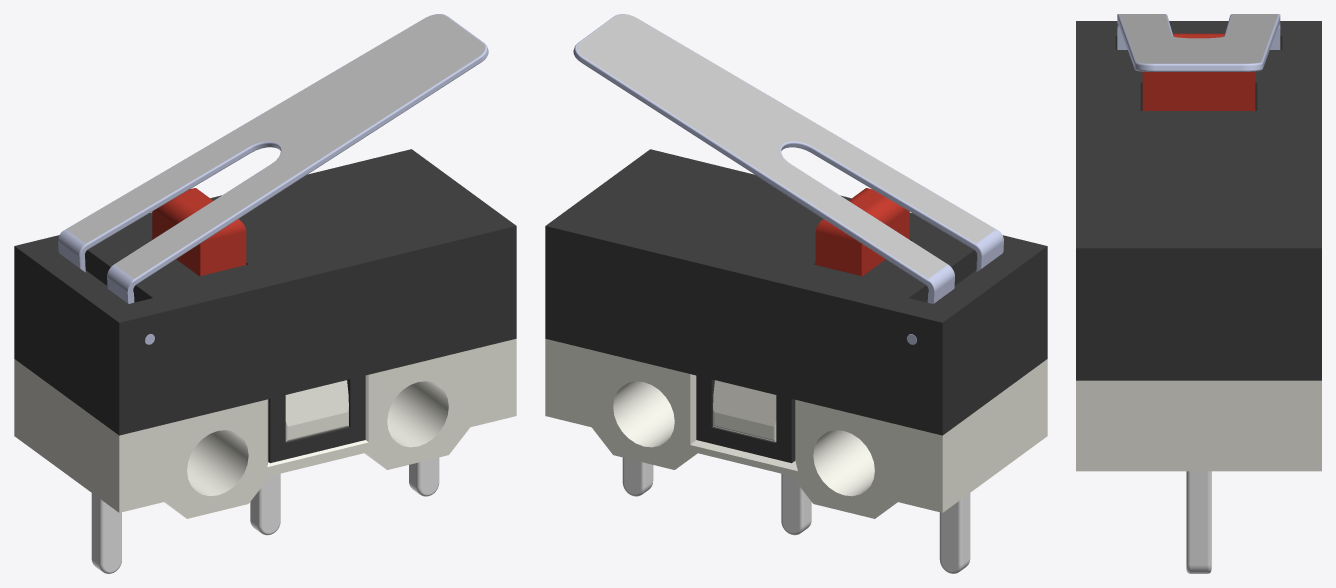
Rendered from Micro Limit Switch v2.obj.
3 renders of one model, left to right at view 1: azimuth 30°, elevation 25°; view 2: azimuth 150°, elevation 25°; view 3: azimuth 270°, elevation 25°, orthographic. The views are drawn at different scales.
Parts seen in each view (by area): view 1: Body1:1, Body1, Body1:6, Body1:5, Body1:3, Body1:2, Body1:4; view 2: Body1:1, Body1, Body1:6, Body1:5, Body1:3, Body1:2, Body1:4; view 3: Body1:1, Body1, Body1:6, Body1:5, Body1:4.
Part boxes in pixels (left/top/right/bottom): Body1:1: left=14, top=149, right=516, bottom=463; Body1: left=14, top=338, right=516, bottom=518; Body1:6: left=58, top=14, right=488, bottom=344; Body1:5: left=152, top=188, right=246, bottom=276; Body1:3: left=91, top=493, right=121, bottom=573; Body1:2: left=250, top=473, right=280, bottom=535; Body1:4: left=409, top=457, right=439, bottom=496; Body1:1: left=545, top=149, right=1047, bottom=463; Body1: left=545, top=339, right=1047, bottom=518; Body1:6: left=573, top=14, right=1003, bottom=344; Body1:5: left=815, top=188, right=909, bottom=276; Body1:3: left=939, top=493, right=970, bottom=573; Body1:2: left=781, top=473, right=811, bottom=535; Body1:4: left=622, top=457, right=653, bottom=496; Body1:1: left=1076, top=21, right=1321, bottom=380; Body1: left=1076, top=380, right=1321, bottom=471; Body1:6: left=1117, top=14, right=1280, bottom=71; Body1:5: left=1142, top=33, right=1255, bottom=110; Body1:4: left=1186, top=471, right=1211, bottom=573.
Bounding box in the file's own units: 1.3 × 1.41 × 0.59.
